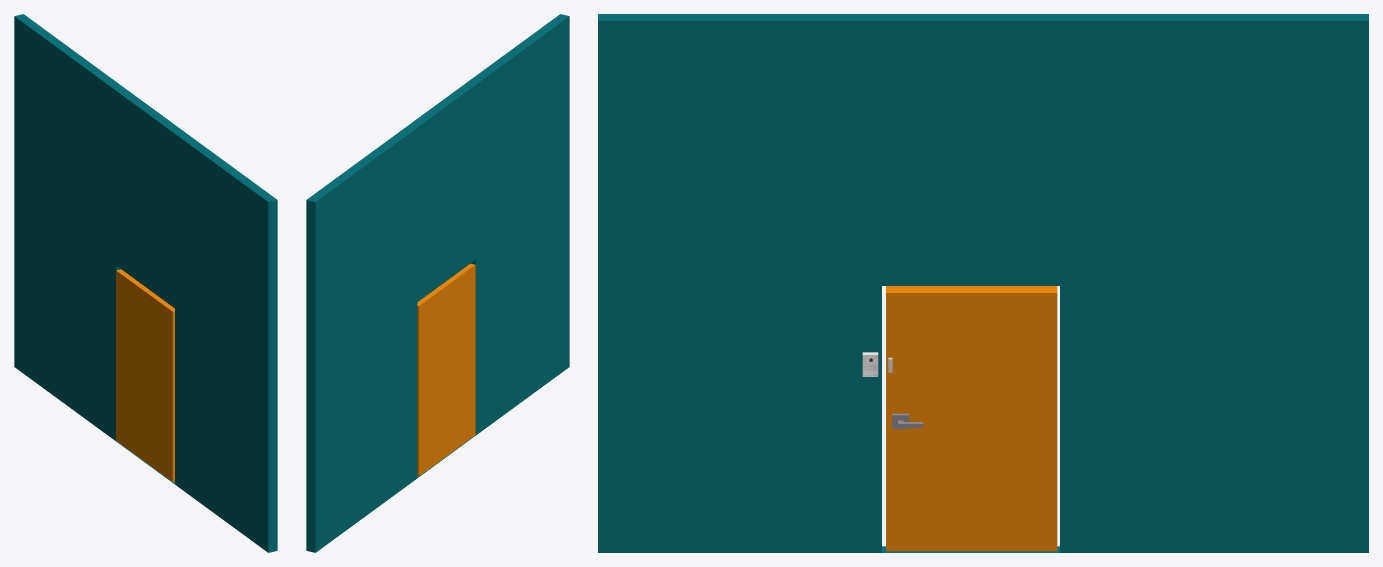
Rendered from modelo.glb.
The picture shows the model from 3 angles, left to right: view 1: azimuth 30°, elevation 25°; view 2: azimuth 150°, elevation 25°; view 3: azimuth 270°, elevation 25°; orthographic projection. The views are drawn at different scales.
Parts seen in each view (by area): view 1: Parede, Porta; view 2: Parede, Porta; view 3: Parede, Porta.
Boxes of the visible parts, bbox=[...] form: Parede: bbox=[14, 14, 277, 552]; Porta: bbox=[116, 269, 174, 481]; Parede: bbox=[306, 14, 569, 552]; Porta: bbox=[417, 263, 475, 476]; Parede: bbox=[598, 14, 1368, 552]; Porta: bbox=[886, 286, 1057, 551].
Bounding box in the file's own units: 0.7854 × 14.36 × 18.85.
